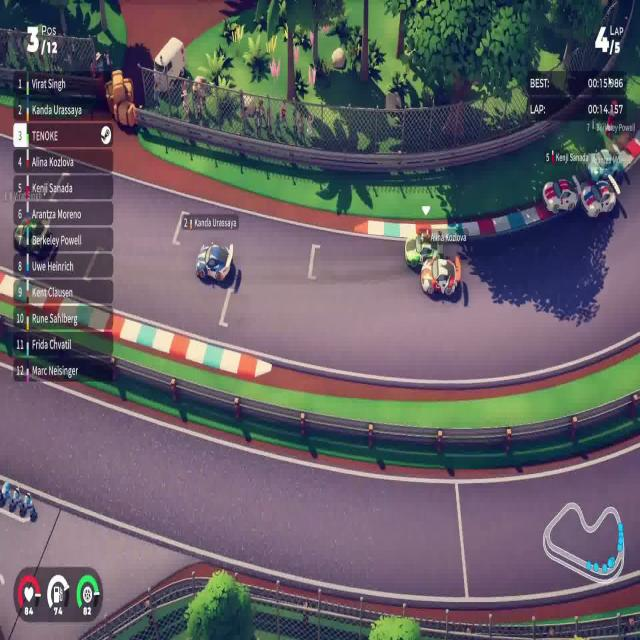car: (420, 250, 461, 299), (195, 240, 234, 284), (578, 178, 617, 219), (542, 176, 580, 215), (404, 230, 439, 272), (584, 142, 622, 180)
